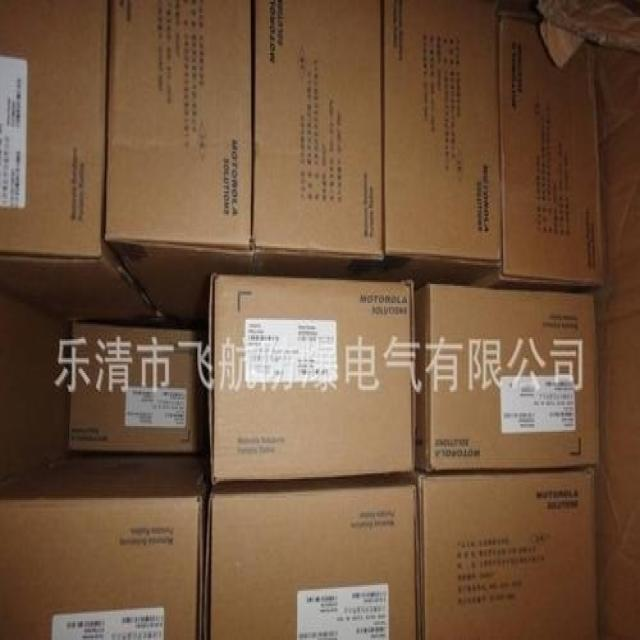box: (0, 0, 170, 326), (104, 0, 253, 328), (209, 271, 416, 483), (0, 454, 206, 640), (253, 0, 385, 280), (374, 0, 502, 286), (204, 475, 420, 640), (480, 15, 603, 293), (417, 284, 600, 470), (417, 468, 599, 638), (70, 322, 205, 453)
